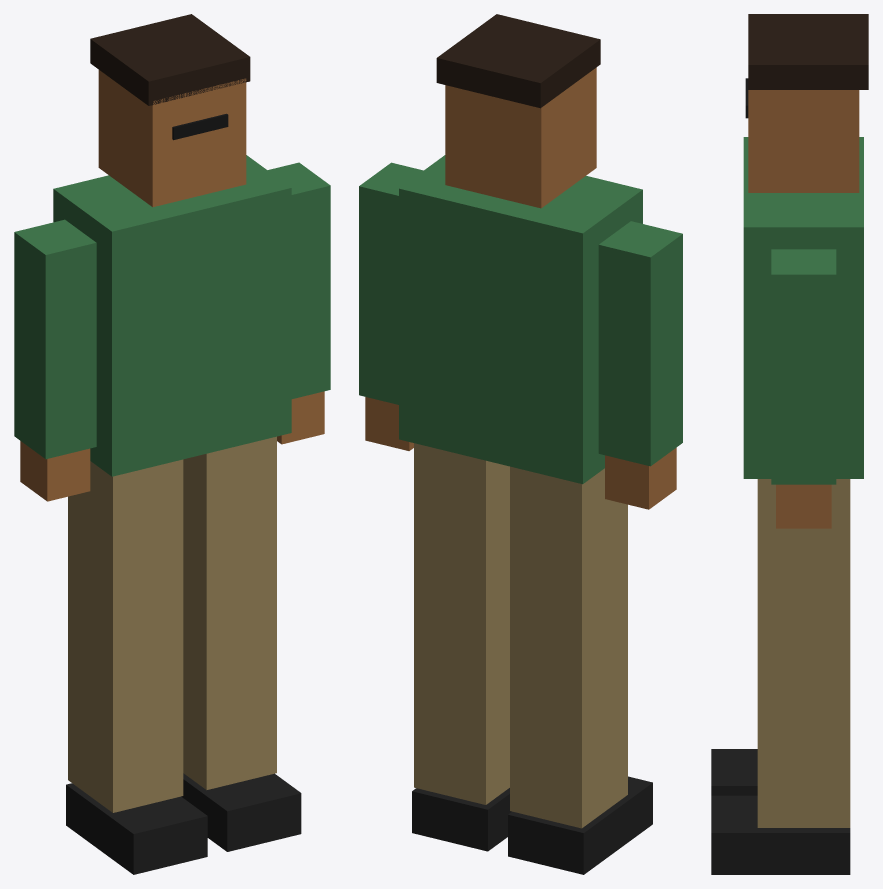
File: ped_1.glb
3 views of the same model, side by side, from view 1: azimuth 30°, elevation 25°; view 2: azimuth 150°, elevation 25°; view 3: azimuth 270°, elevation 25° (orthographic). The views are drawn at different scales.
Visible parts, largest first — view 1: torso, leg_r, leg_l, head, arm_r, arm_l; view 2: torso, leg_r, leg_l, head, arm_r, arm_l; view 3: leg_l, head, torso, arm_l, leg_r.
Part boxes in pixels (left/top/right/bottom): torso: left=53, top=155, right=291, bottom=476; leg_r: left=66, top=459, right=207, bottom=874; leg_l: left=181, top=436, right=301, bottom=851; head: left=90, top=14, right=250, bottom=207; arm_r: left=14, top=219, right=96, bottom=501; arm_l: left=267, top=162, right=330, bottom=444; torso: left=399, top=155, right=642, bottom=484; leg_r: left=508, top=466, right=652, bottom=874; leg_l: left=412, top=443, right=511, bottom=851; head: left=436, top=14, right=600, bottom=208; arm_r: left=598, top=221, right=682, bottom=509; arm_l: left=359, top=162, right=423, bottom=450; leg_l: left=711, top=479, right=850, bottom=874; head: left=745, top=14, right=868, bottom=192; torso: left=743, top=137, right=863, bottom=478; arm_l: left=771, top=249, right=836, bottom=528; leg_r: left=711, top=749, right=757, bottom=795.
Size of the model in its own units: 0.73 by 1.89 by 0.34.
